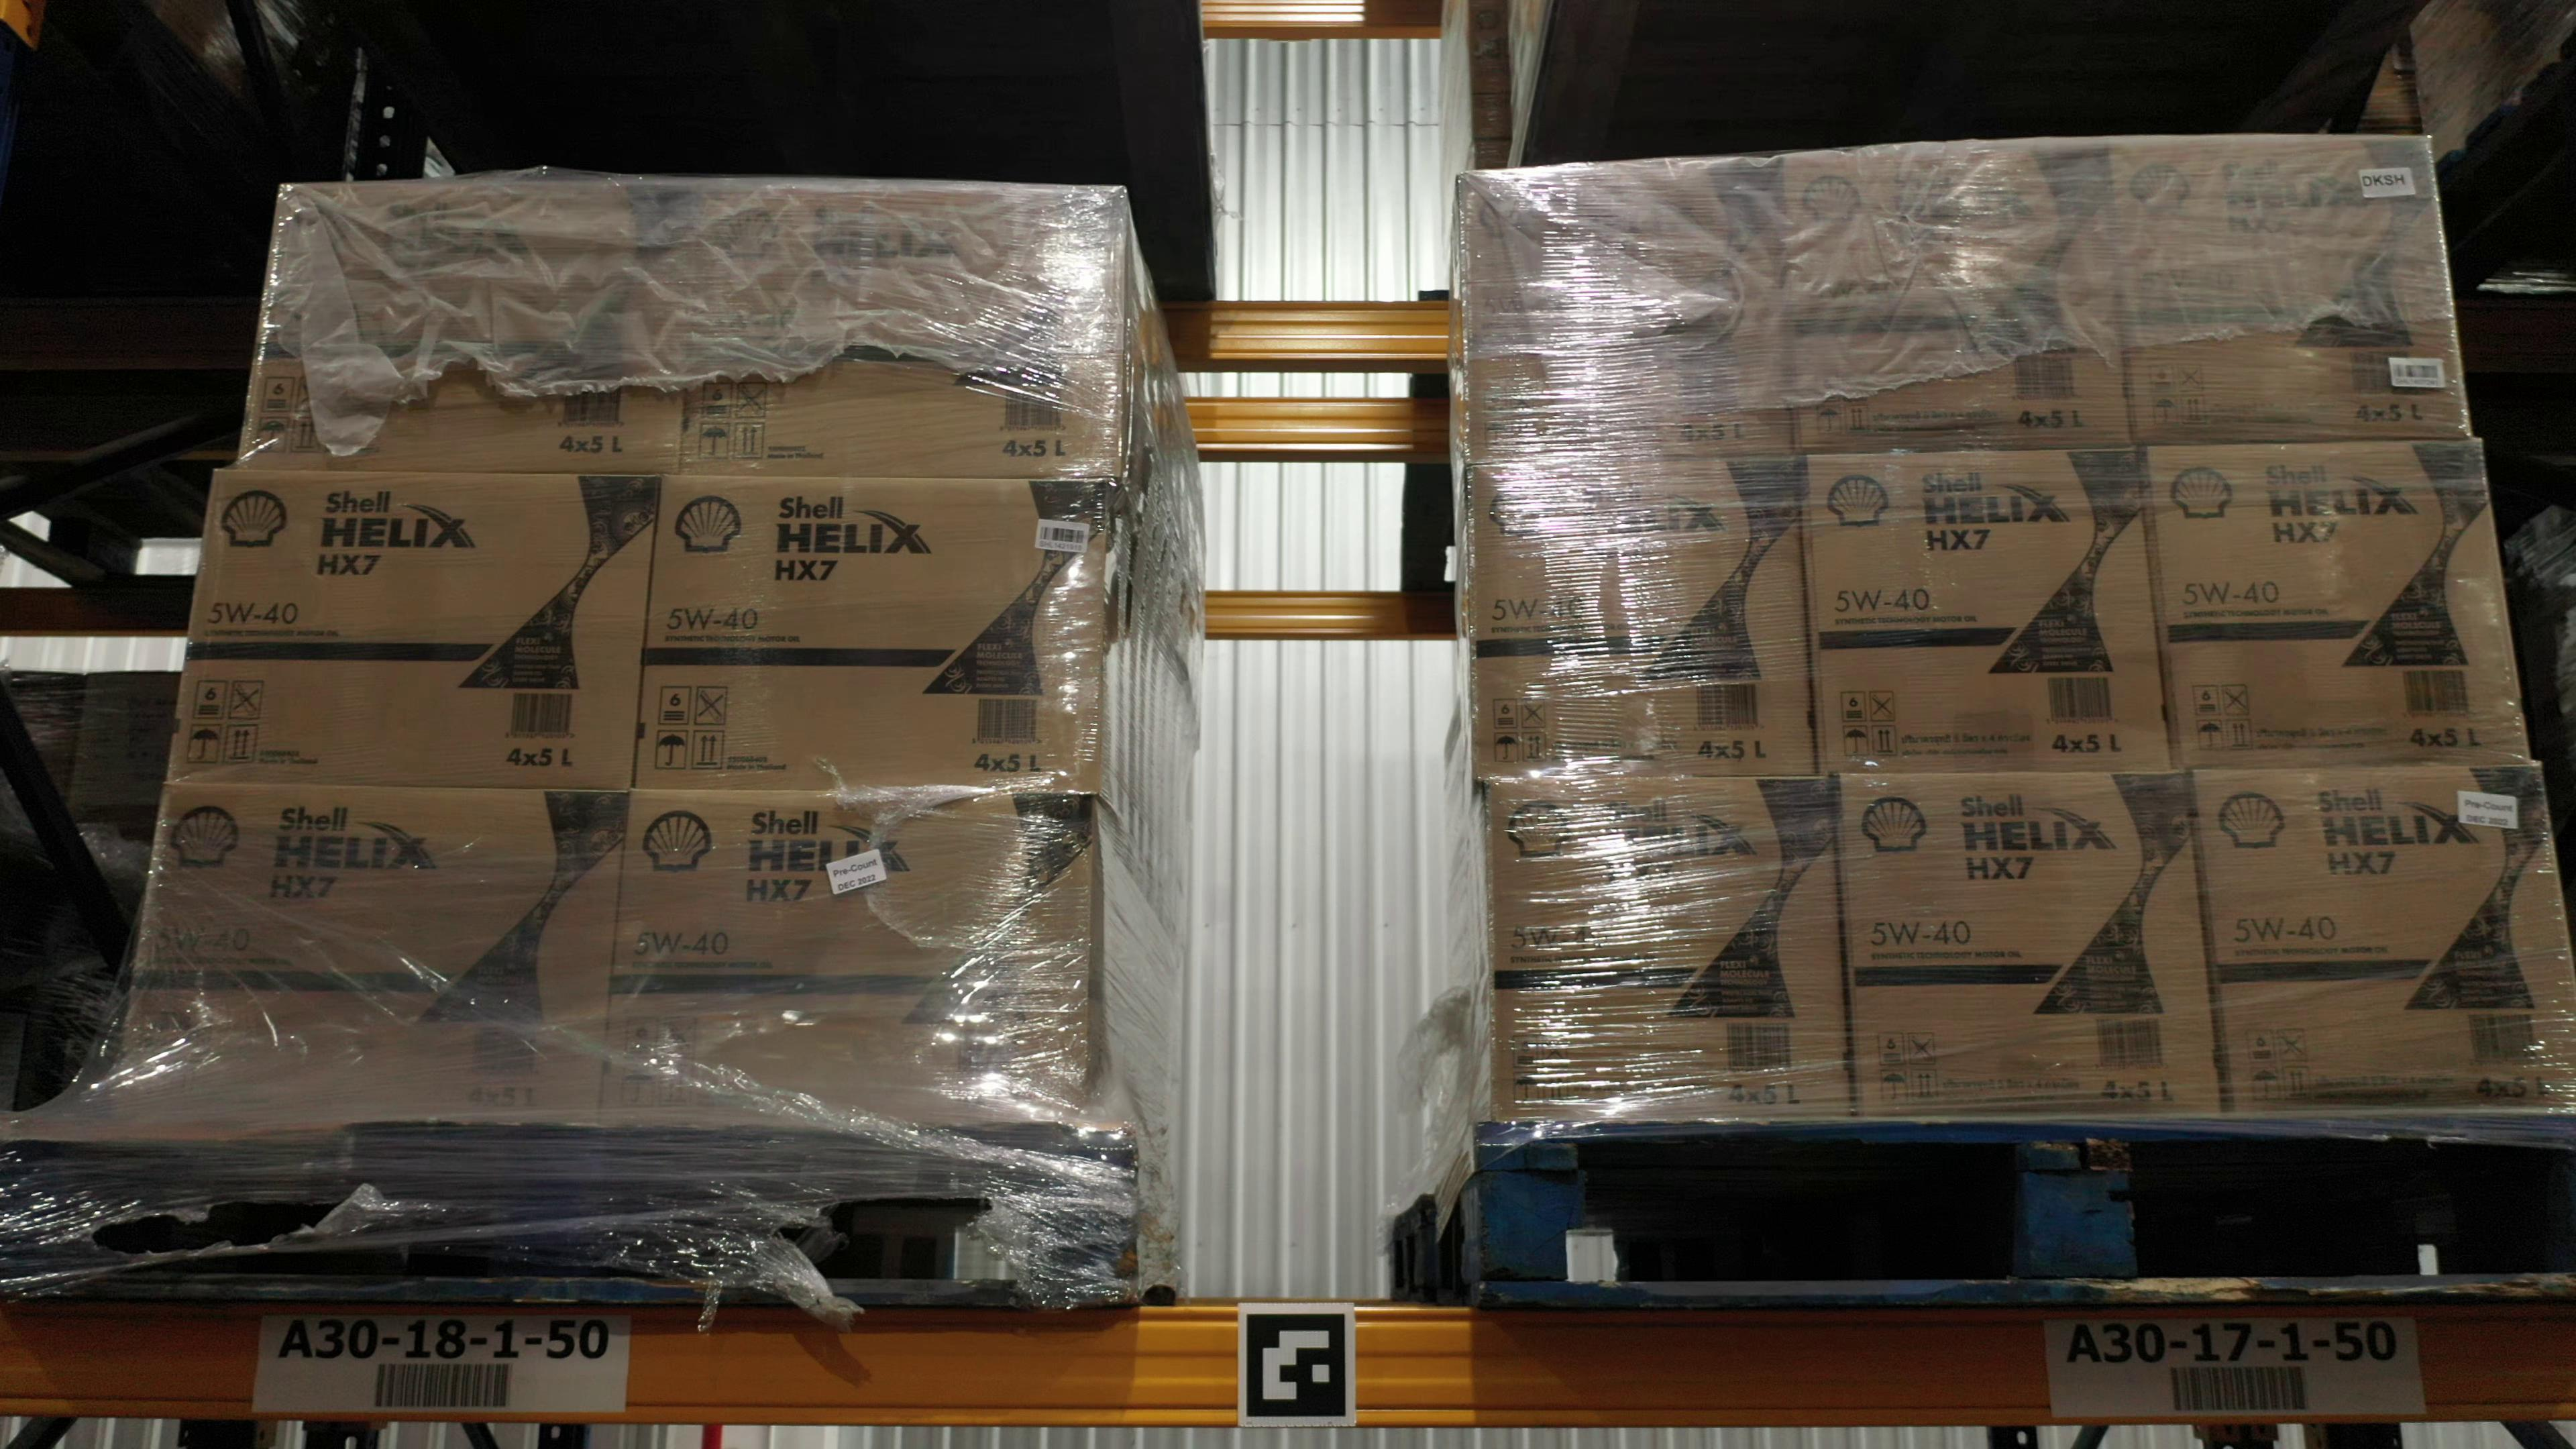-: (104, 786, 630, 1127), (587, 787, 1100, 1127), (166, 467, 662, 789), (633, 474, 1116, 794), (239, 180, 702, 476), (1840, 770, 2226, 1120), (2194, 764, 2576, 1116), (679, 184, 1125, 481), (2144, 435, 2534, 770), (1486, 777, 1856, 1125), (1803, 449, 2173, 773), (1467, 456, 1815, 786), (2109, 136, 2473, 448), (1782, 143, 2134, 456), (1463, 161, 1796, 464)
